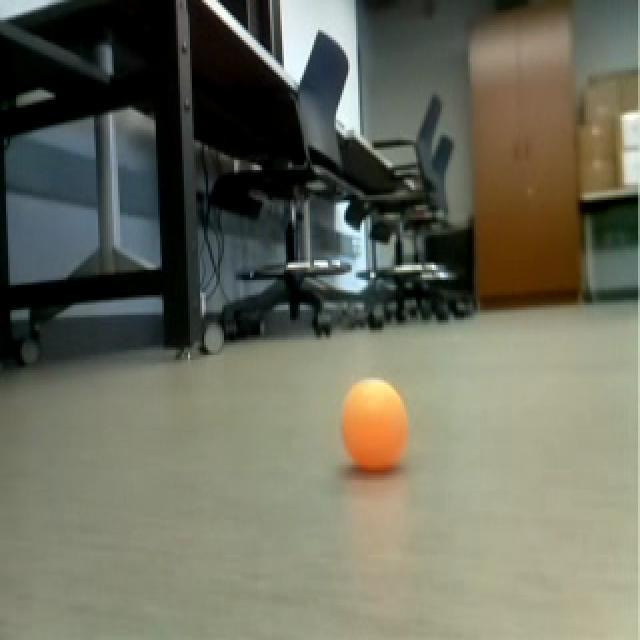oball: (336, 372, 414, 476)
